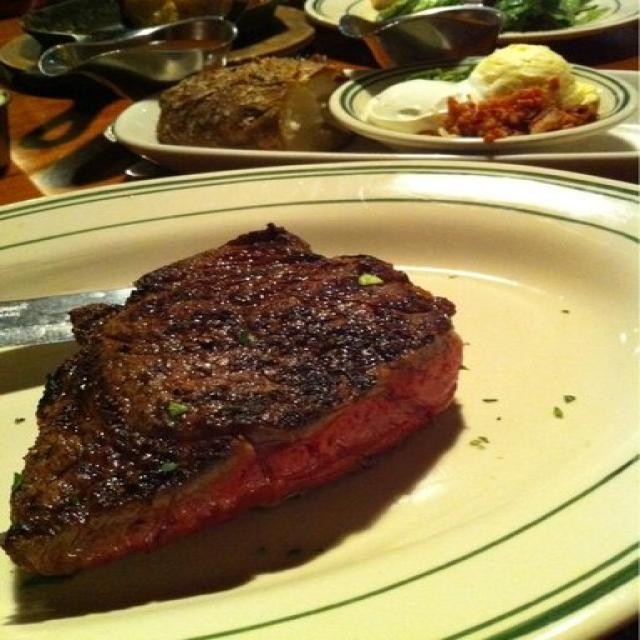Steak: (32, 233, 470, 565)
